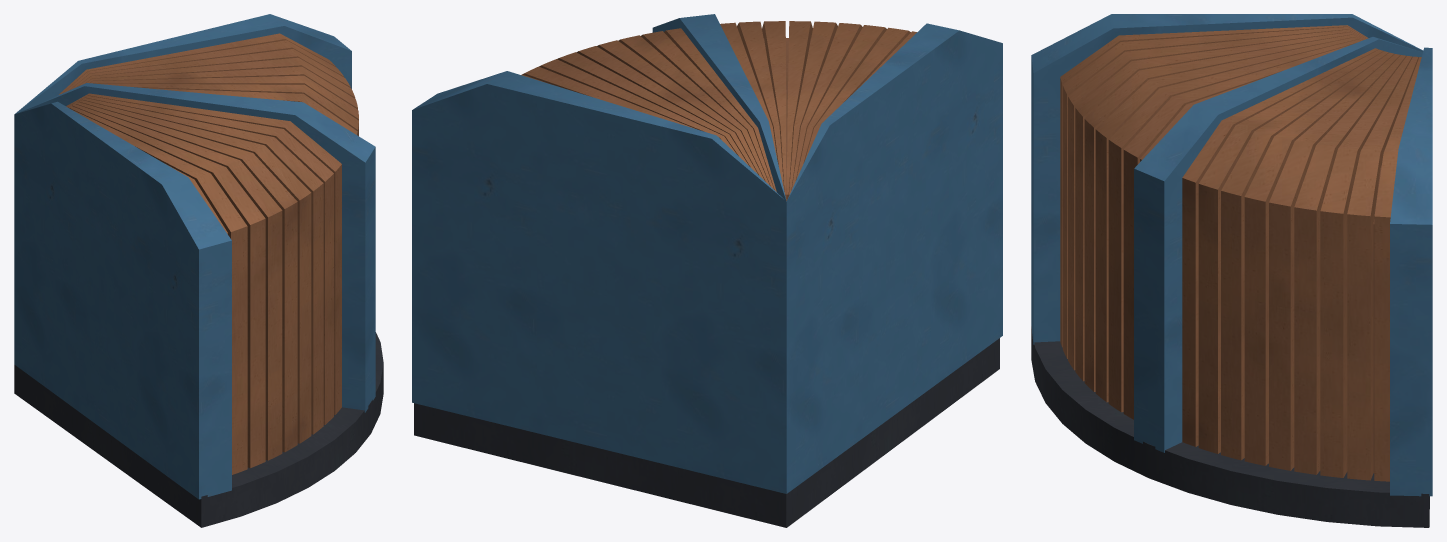
The model's file is coil_corner.glb.
The picture shows the model from 3 angles, left to right: view 1: azimuth 30°, elevation 25°; view 2: azimuth 150°, elevation 25°; view 3: azimuth 270°, elevation 25°; orthographic projection. The views are drawn at different scales.
Visible parts, largest first — view 1: CoilCornerBody; view 2: CoilCornerBody; view 3: CoilCornerBody.
Boxes of the visible parts, x1,y1,x2,y2 form: CoilCornerBody: (14,14,383,527); CoilCornerBody: (412,14,1002,527); CoilCornerBody: (1031,14,1432,527).
Bounding box in the file's own units: 0.75 × 0.71 × 0.75.
Materials: 5 (5 with a texture image).
